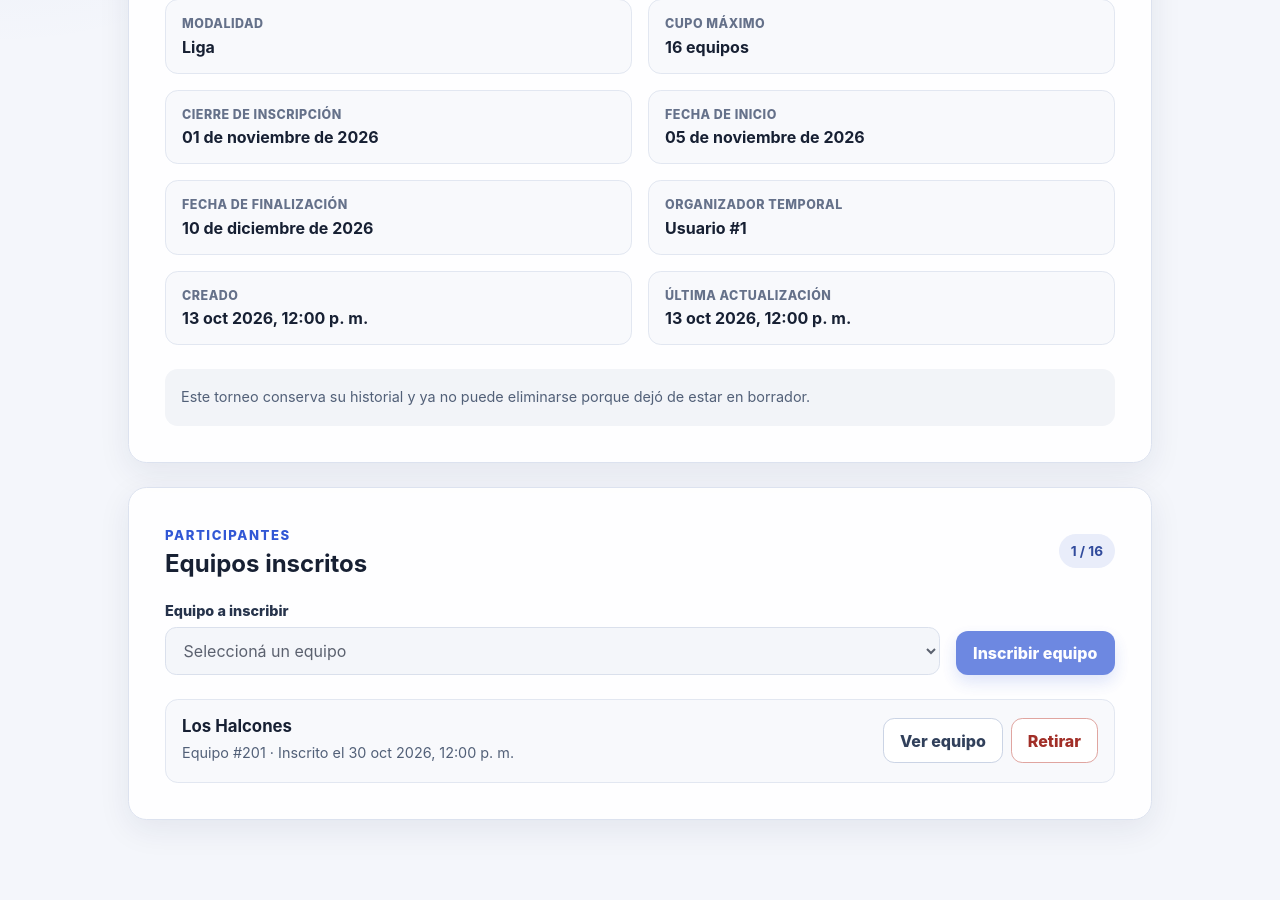
Test: TournamentDetailPage › retira un equipo inscrito desde el detalle
(page scrolled)
Expected: the heading "Los Halcones" is shown, [182,716,292,736]
Click the button "Retirar" at {"x": 1054, "y": 741}, box [1011,718,1098,763]
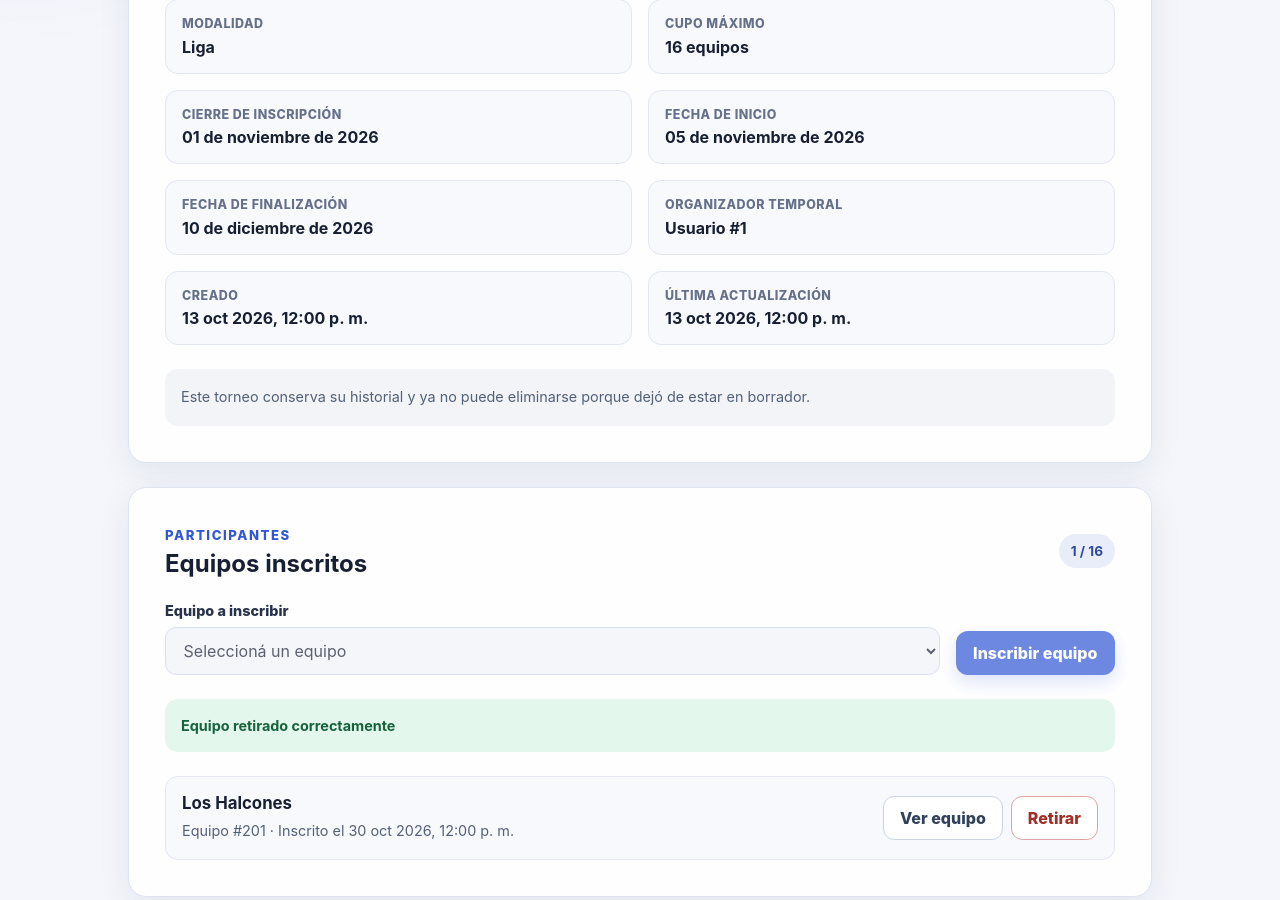
Expected: the text "Equipo retirado correctamente" is shown, [181,717,395,734]
